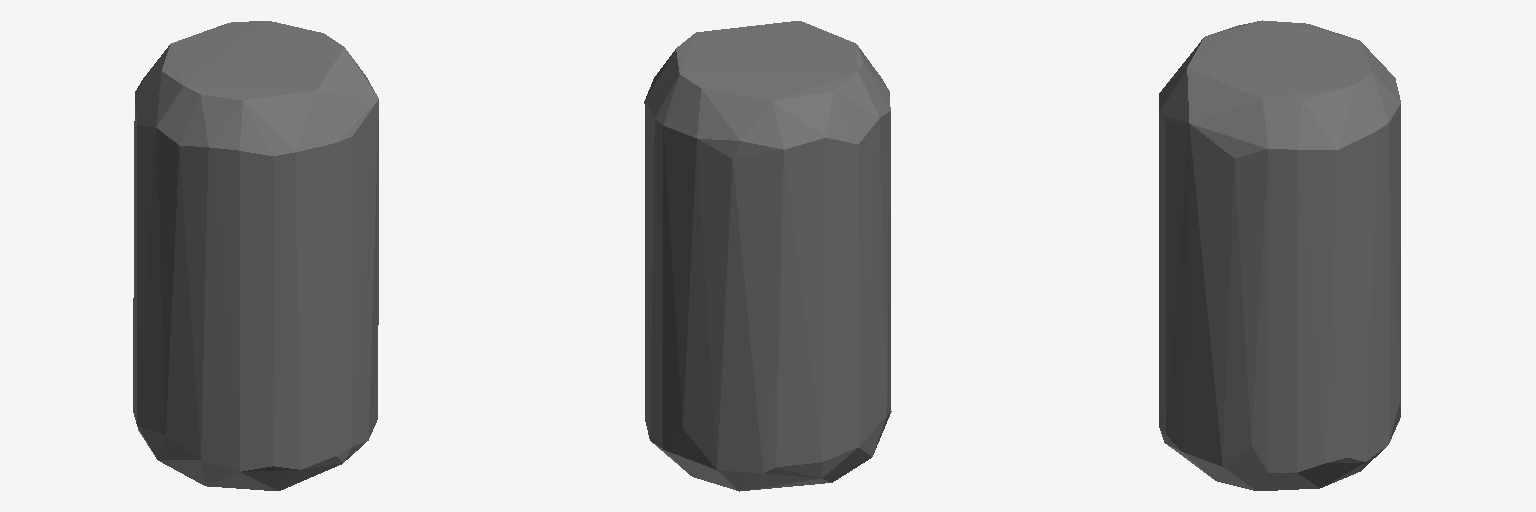
robot.urdf — can_012:
<?xml version="1.0" ?>
<robot name="can_012">
  <material name="color">
    <color rgba=".5 .5 .5 1"/>
  </material>

  <link name="base_link">
    <contact>
      <lateral_friction value="1.0"/>
      <rolling_friction value="0.001"/>
      <spinning_friction value="0.001"/>
      <inertia_scaling value="1.0"/>
    </contact>
    <inertial>
      <origin rpy="0 0 0" xyz="-6.10846e-06 7.04181e-07 -0.00130529"/>
       <mass value="0.1"/>
       <inertia ixx="1" ixy="0" ixz="0" iyy="1" iyz="0" izz="1"/>
    </inertial>

    <visual>
      <origin rpy="0 0 0" xyz="0 0 0"/>
      <geometry>
        <mesh filename="can_012_vhacd_0_of_1.obj" scale="1 1 1"/>
      </geometry>
      <material name="color"/>
    </visual>

    <collision>
      <origin rpy="0 0 0" xyz="0 0 0"/>
      <geometry>
        <mesh filename="can_012_vhacd_0_of_1.obj" scale="1 1 1"/>
      </geometry>
    </collision>

  </link>
</robot>

--- Facts derived from the render (not from the file) ---
The picture shows the robot from 3 angles, left to right: view 1: azimuth 30°, elevation 25°; view 2: azimuth 150°, elevation 25°; view 3: azimuth 270°, elevation 25°; orthographic projection.
Model can_012 with 1 links and 0 joints (none), rooted at base_link, posed every joint at zero.
Links seen in each view (by area): view 1: base_link; view 2: base_link; view 3: base_link.
Link boxes in pixels (x1,y1,x2,y2): base_link: (133,21,378,490); base_link: (644,21,891,491); base_link: (1159,20,1400,490).
Bounding box of the posed robot: 0.0957 × 0.0957 × 0.1721 m (x, y, z).
1 mesh visuals loaded from 1 distinct referenced files (1 OBJ).